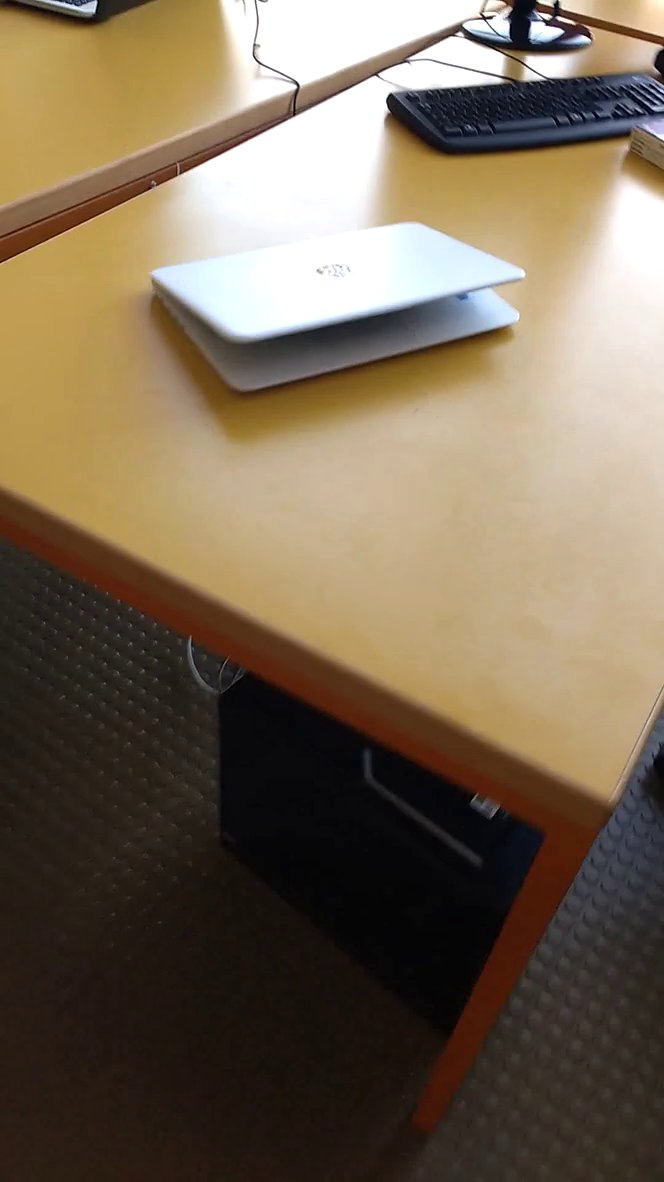laptop: (138, 205, 548, 419)
